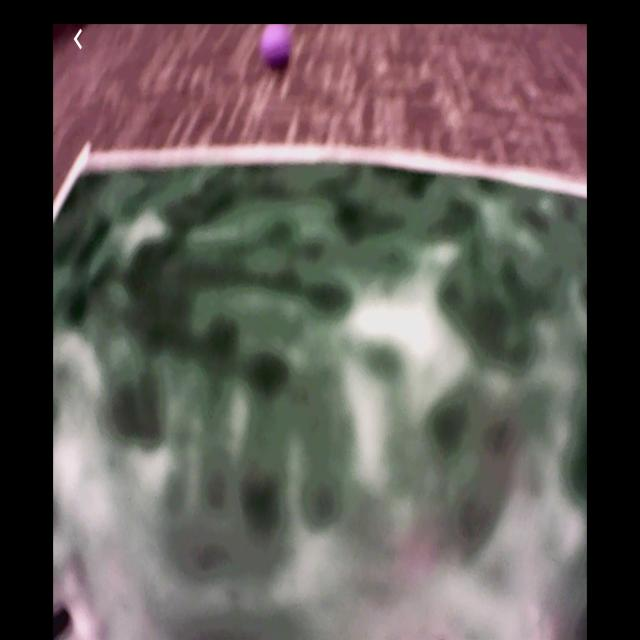ball: (261, 27, 293, 68)
